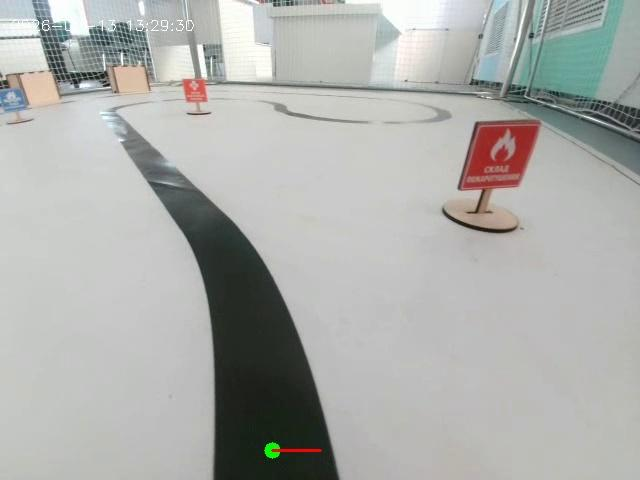fire: (461, 103, 536, 234)
flood: (0, 74, 36, 146)
medical: (181, 68, 210, 128)
